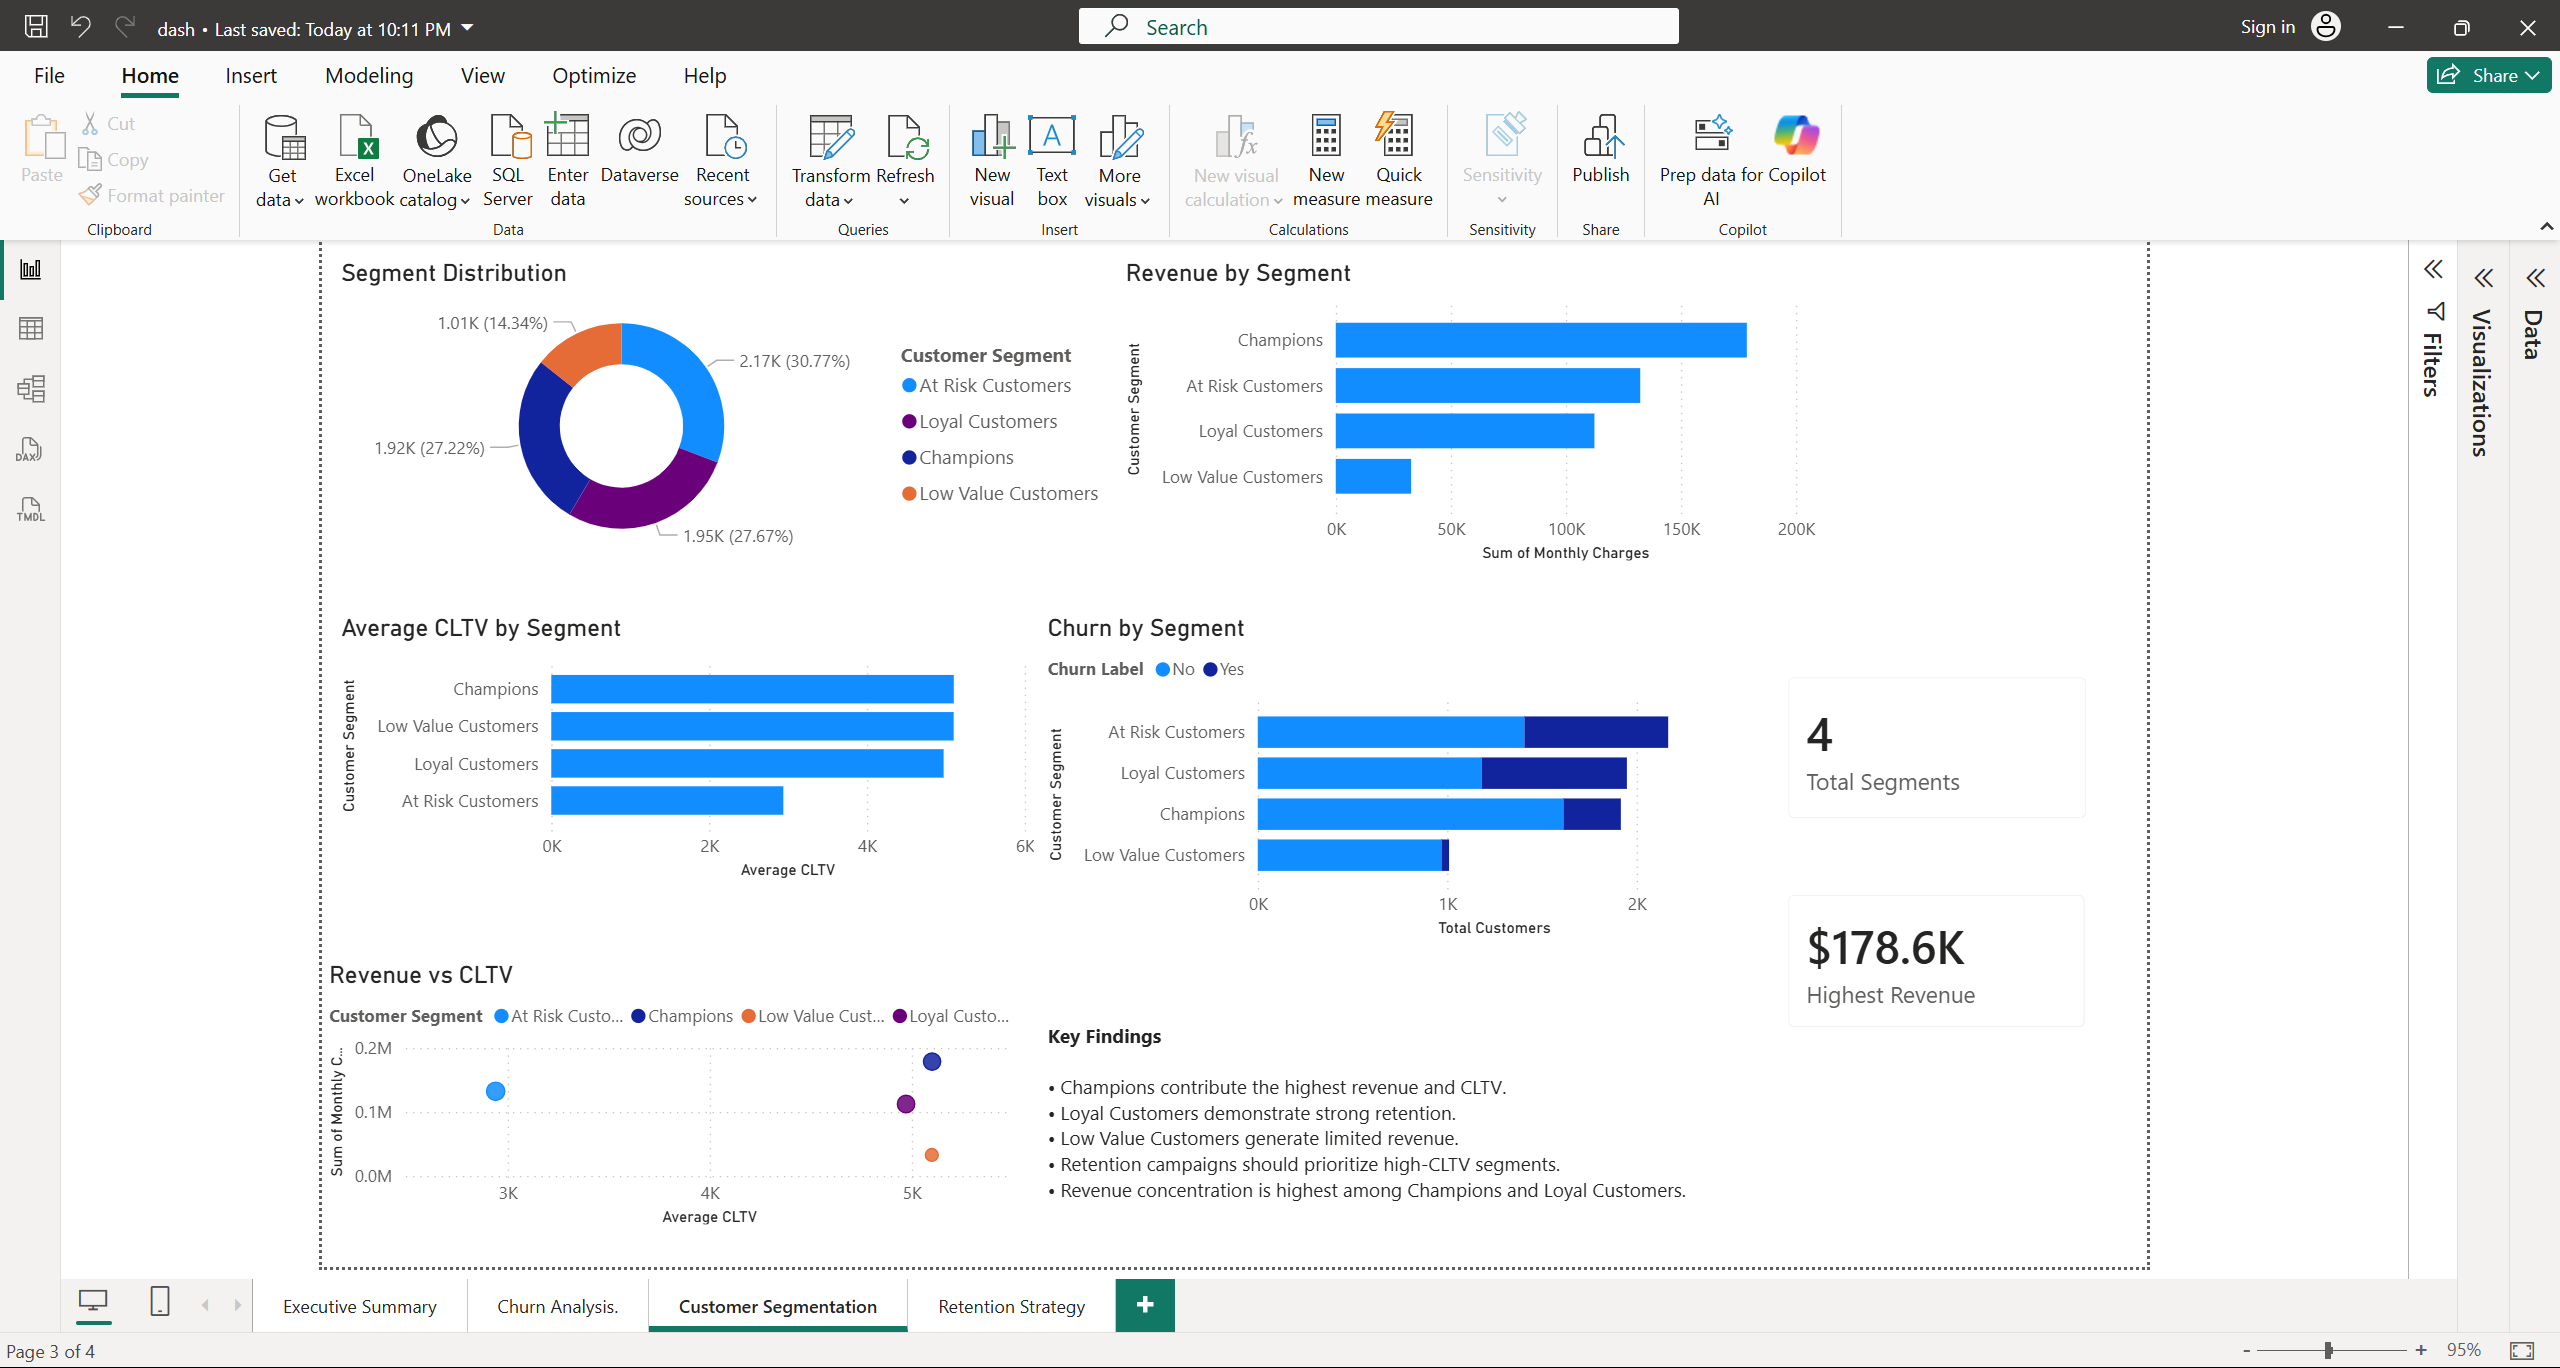

Layout of this report page (visuals, bound fields, positions):
{"tool":"powerbi","page":{"name":"Customer Segmentation","canvas":[1280,720],"ordinal":2},"visuals":[{"type":"donutChart","title":"Segment Distribution","fields":{"Category":["telco_segmented.Customer Segment"],"Y":["CountNonNull(telco_segmented.Customer Segment)"]},"box":[8.1,12.7,550.4,215.5],"z":0},{"type":"clusteredBarChart","title":"Revenue by Segment","fields":{"Category":["telco_segmented.Customer Segment"],"Y":["Sum(telco_segmented.Monthly Charges)"]},"box":[558.5,12.7,493.6,216.7],"z":1},{"type":"clusteredBarChart","title":"Average CLTV by Segment","fields":{"Category":["telco_segmented.Customer Segment"],"Y":["telco_segmented.Average CLTV"]},"box":[8.1,261.9,495.9,190],"z":2},{"type":"barChart","title":"Churn by Segment","fields":{"Category":["telco_segmented.Customer Segment"],"Series":["telco_segmented.Churn Label"],"Y":["telco_segmented.Total Customers"]},"box":[504,261.9,495.9,230.6],"z":3},{"type":"scatterChart","title":"Revenue vs CLTV","fields":{"X":["telco_segmented.Average CLTV"],"Y":["Sum(telco_segmented.Monthly Charges)"],"Series":["telco_segmented.Customer Segment"],"Size":["telco_segmented.Total Customers"]},"box":[0,505.2,495.9,190],"z":4},{"type":"textbox","box":[504,542.3,495.9,153],"z":5},{"type":"cardVisual","fields":{"Data":["telco_segmented.Total Segments"]},"box":[1010.4,289.7,243.3,133.3],"z":6},{"type":"cardVisual","fields":{"Data":["telco_segmented.Highest Revenue"]},"box":[1010.4,441.5,242.2,127.5],"z":7}]}

Visuals, with their boxes on the page's 1280x720 design canvas (x1, y1, x2, y2). These are canvas units, not pixel positions in the 2560x1368 screenshot, which may show the page scaled, cropped or inside an application window:
"Segment Distribution" donutChart: [8, 13, 558, 228]
"Revenue by Segment" clusteredBarChart: [558, 13, 1052, 229]
"Average CLTV by Segment" clusteredBarChart: [8, 262, 504, 452]
"Churn by Segment" barChart: [504, 262, 1000, 492]
"Revenue vs CLTV" scatterChart: [0, 505, 496, 695]
textbox: [504, 542, 1000, 695]
cardVisual - telco_segmented.Total Segments: [1010, 290, 1254, 423]
cardVisual - telco_segmented.Highest Revenue: [1010, 442, 1253, 569]
